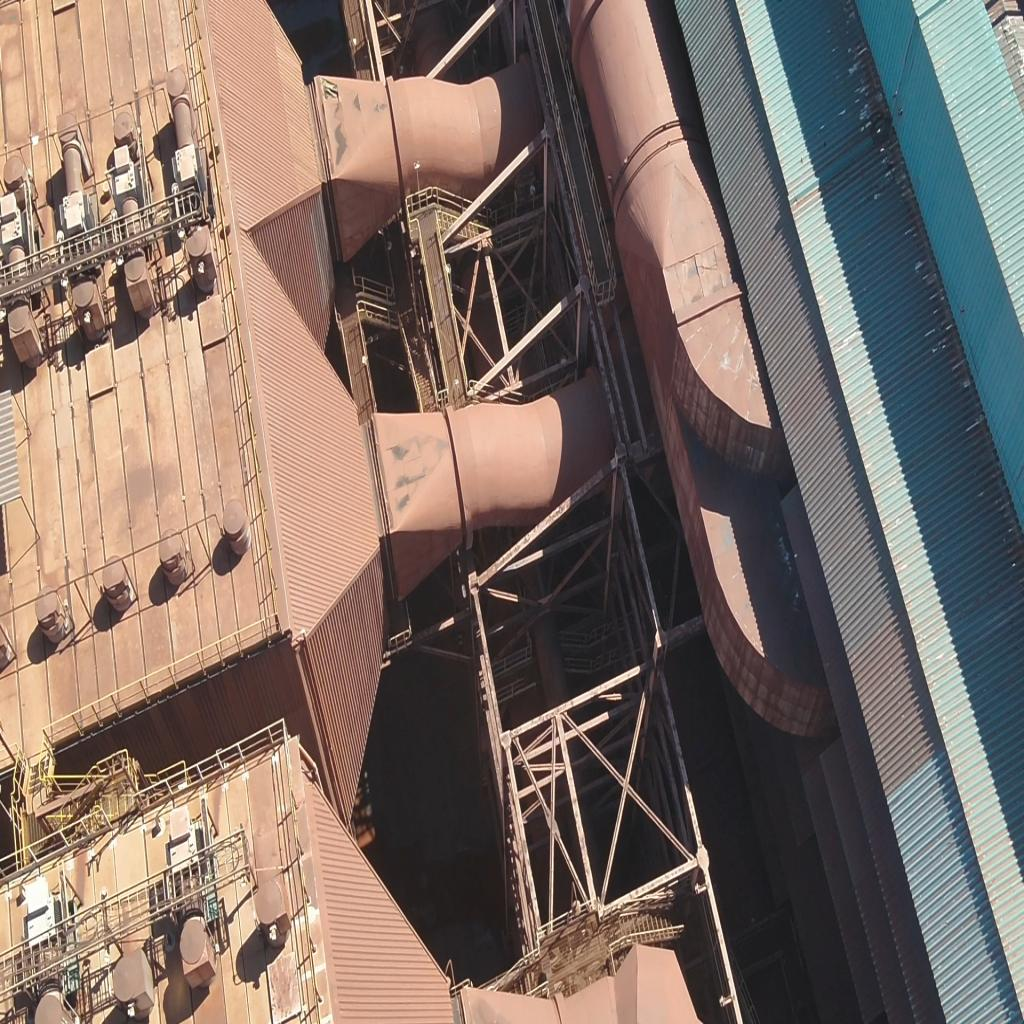Failures: (322, 79, 339, 100)
